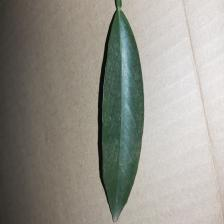healthy: (95, 8, 143, 196)
